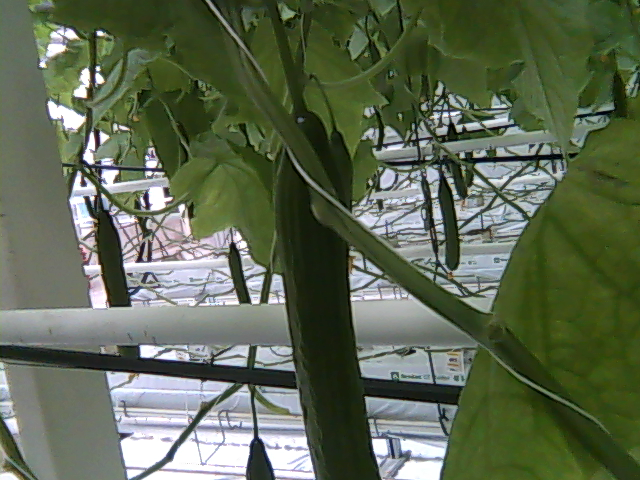concombre: (269, 100, 386, 480)
